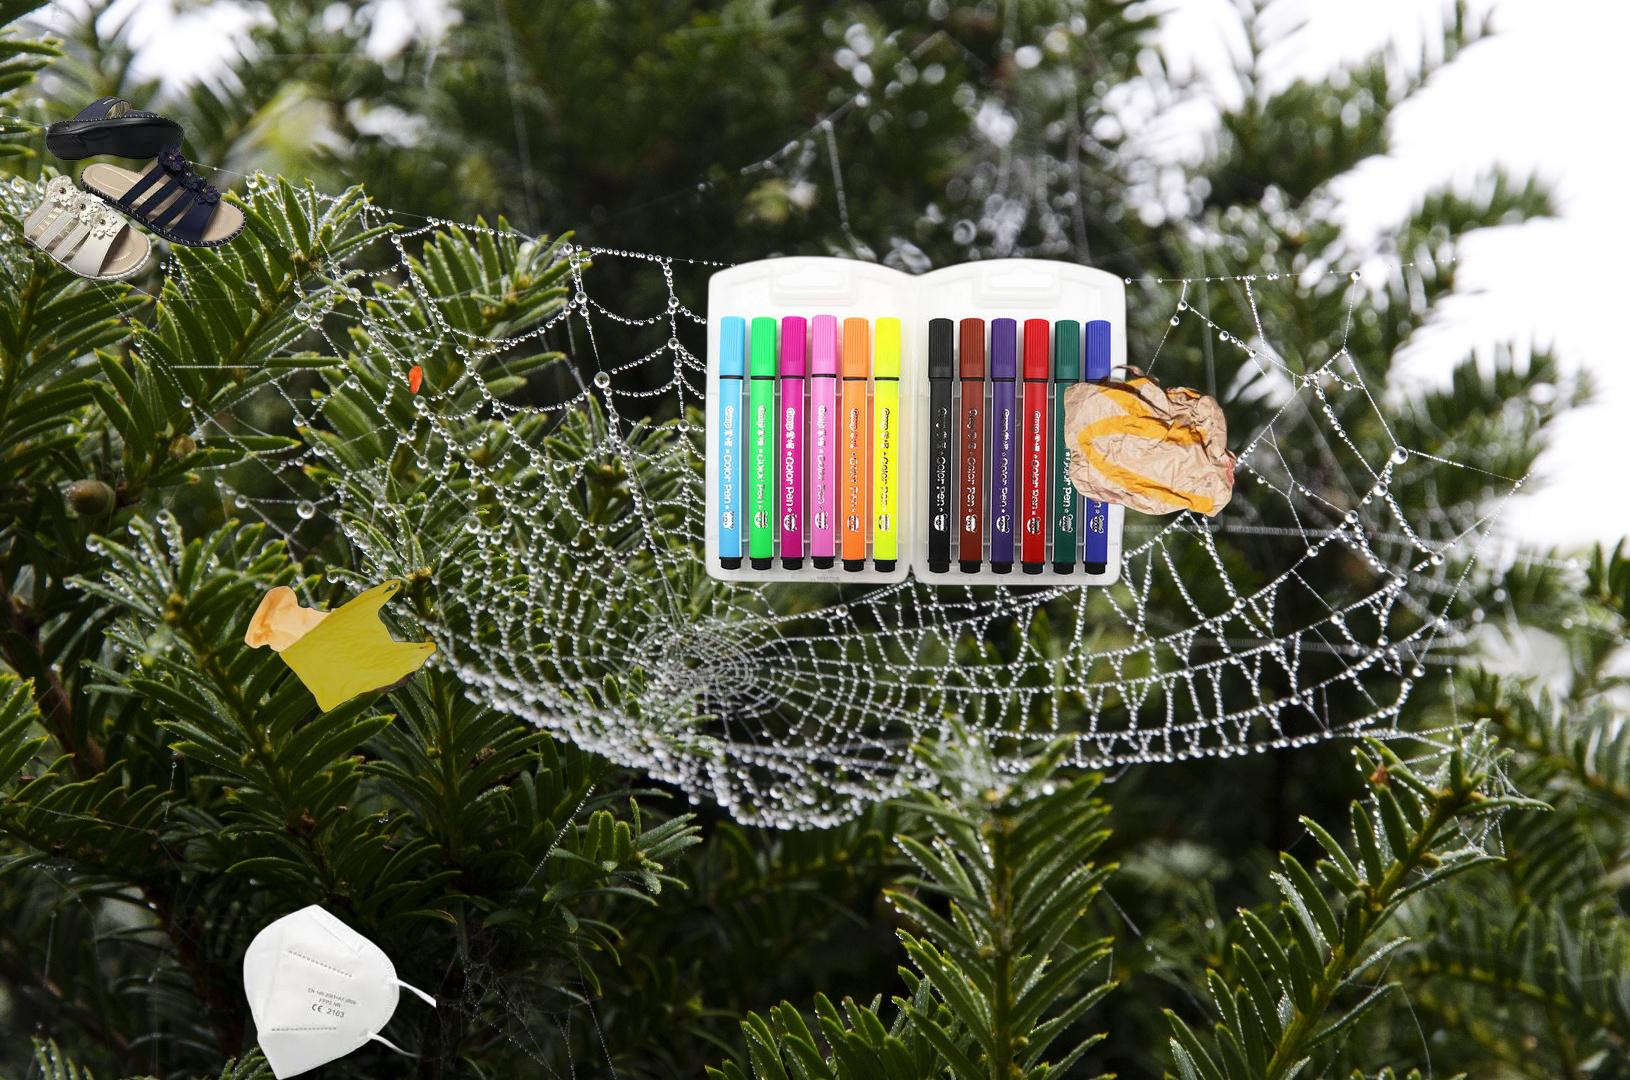battery: (790, 374, 1019, 500)
biological: (251, 243, 426, 411)
paper-bag: (1061, 362, 1238, 520)
penholder: (700, 251, 1132, 589)
plastic-bag: (243, 576, 439, 716)
shoes: (24, 93, 249, 284)
trash: (240, 900, 436, 1080)
